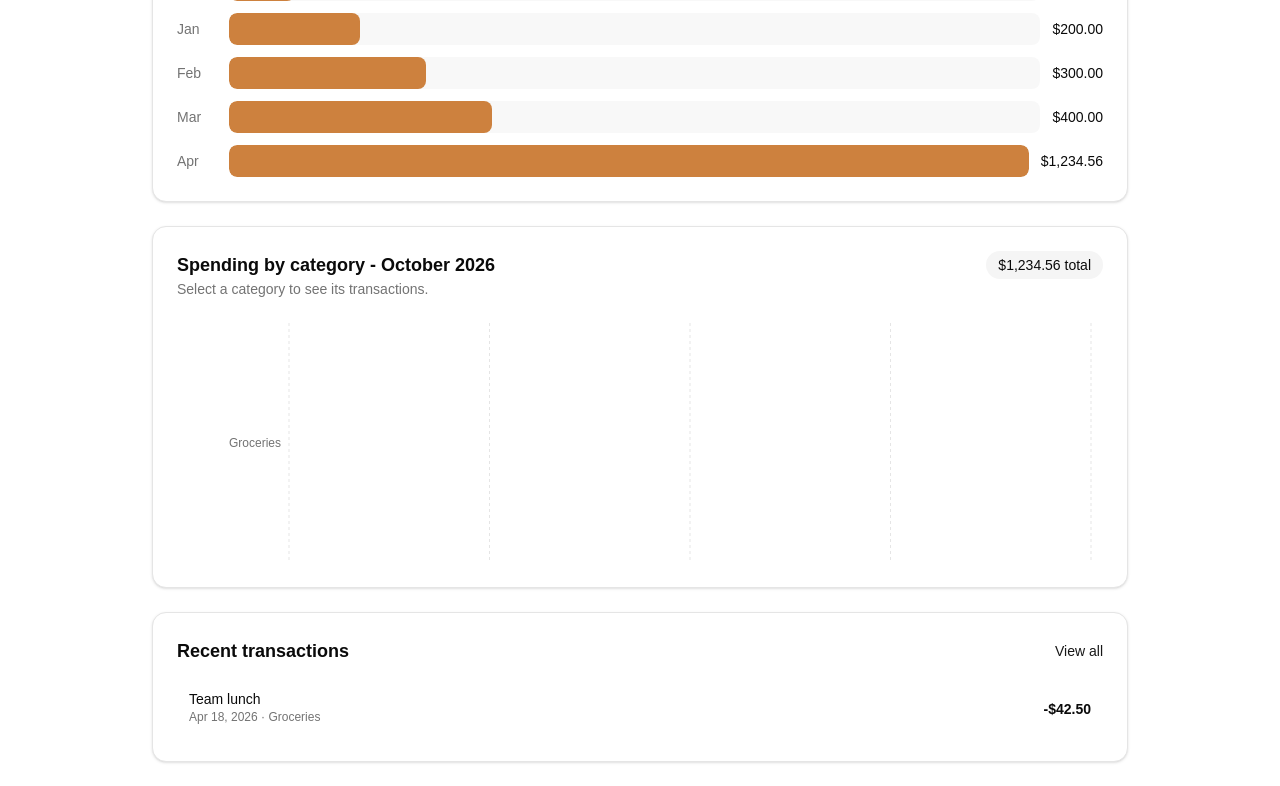
Test: DashboardPage › opens transaction details when a recent item is clicked
(page scrolled)
Click the button "Team lunch Apr 18, 2026 · Groceries" at (225, 699), box [189, 689, 1032, 729]
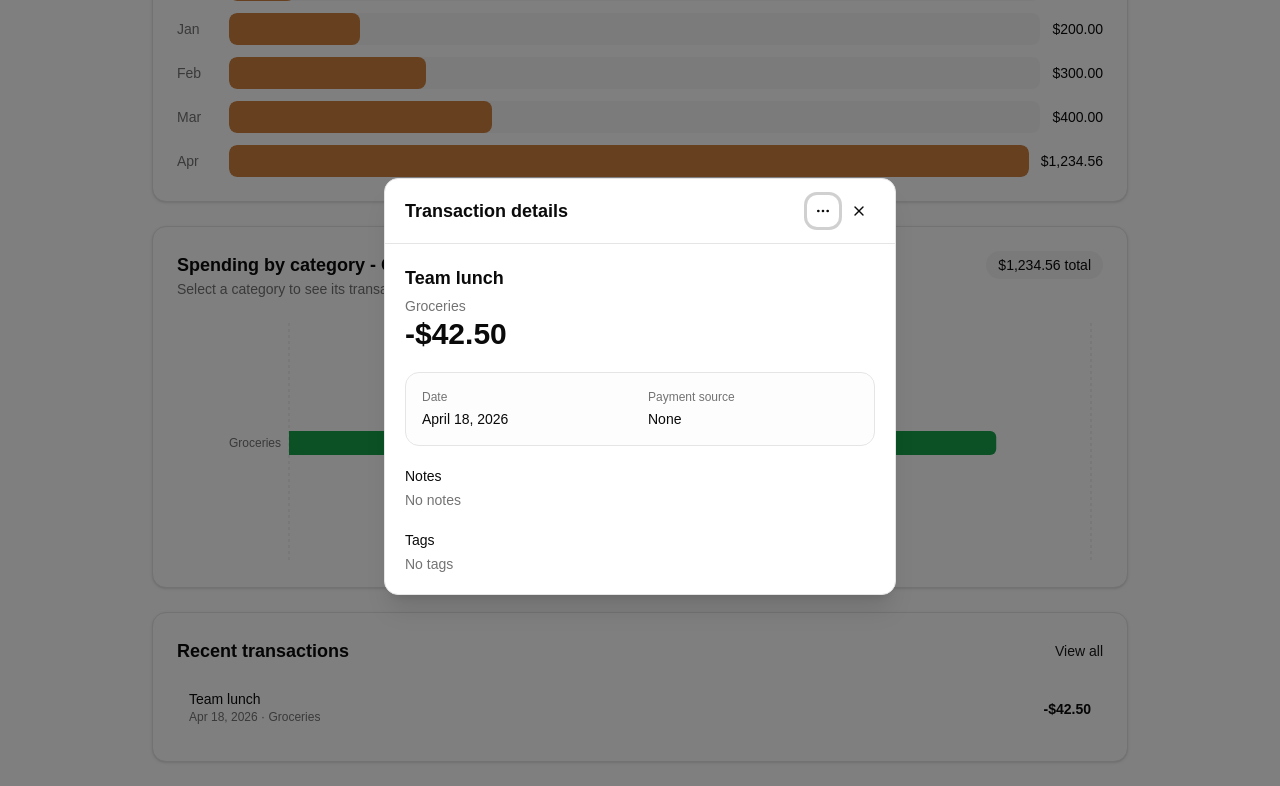
Now the dialog "Transaction details" is shown, box [384, 178, 896, 594]
